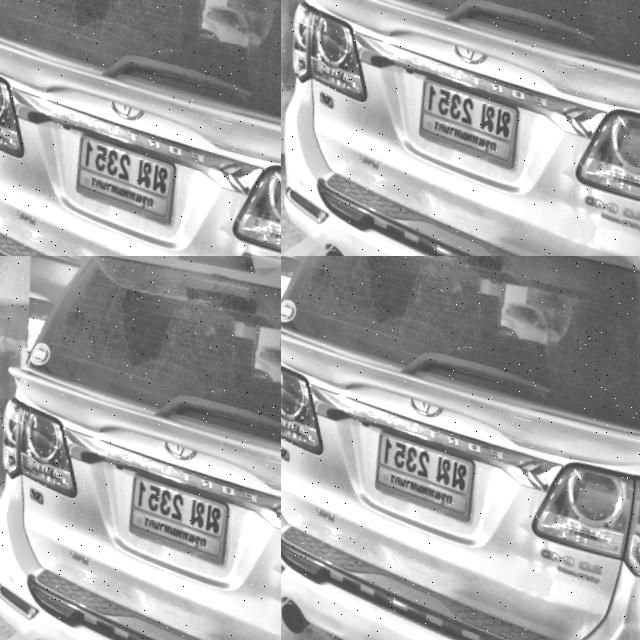license-plate: (359, 421, 476, 513)
